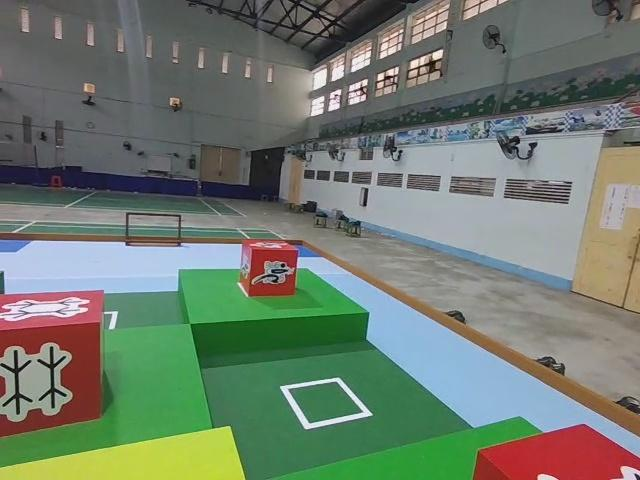R1: (237, 235, 300, 300)
R2 Real: (0, 285, 109, 439)
